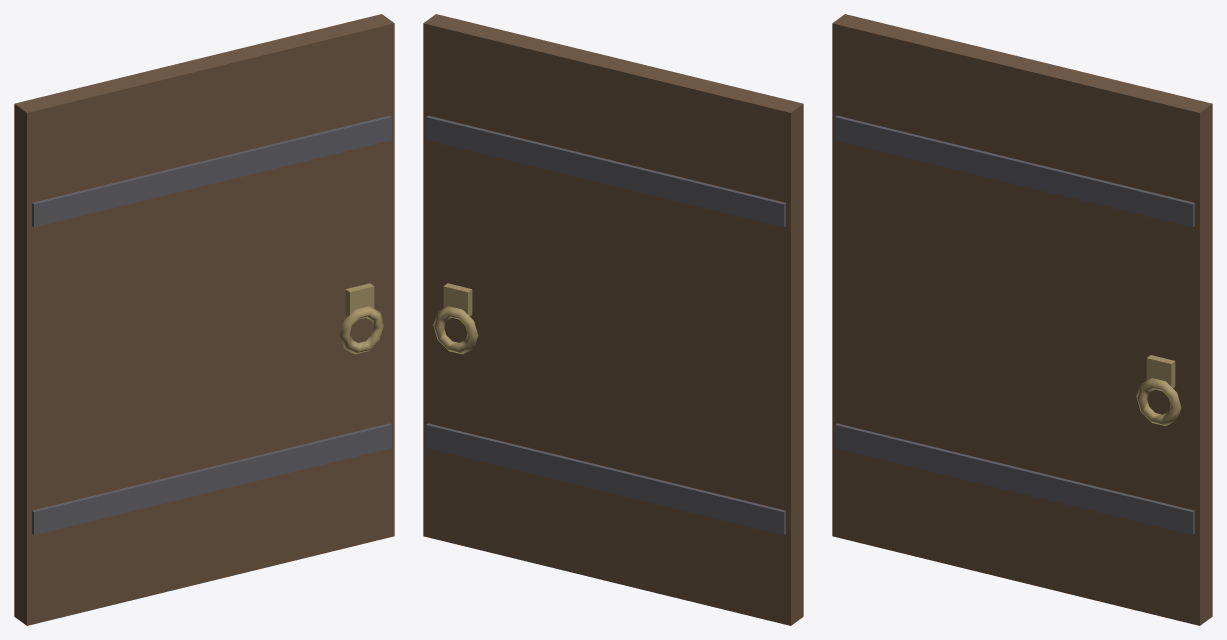
File: DoorLeaf.fbx
3 renders of one model, left to right at view 1: azimuth 30°, elevation 25°; view 2: azimuth 150°, elevation 25°; view 3: azimuth 330°, elevation 25°, orthographic.
Parts seen in each view (by area): view 1: DoorLeaf; view 2: DoorLeaf; view 3: DoorLeaf.
Boxes of the visible parts, x1,y1,x2,y2 form: DoorLeaf: (14,14,394,625); DoorLeaf: (423,14,803,625); DoorLeaf: (832,14,1212,625).
Bounding box in the file's own units: 1.5 × 2 × 0.194.
